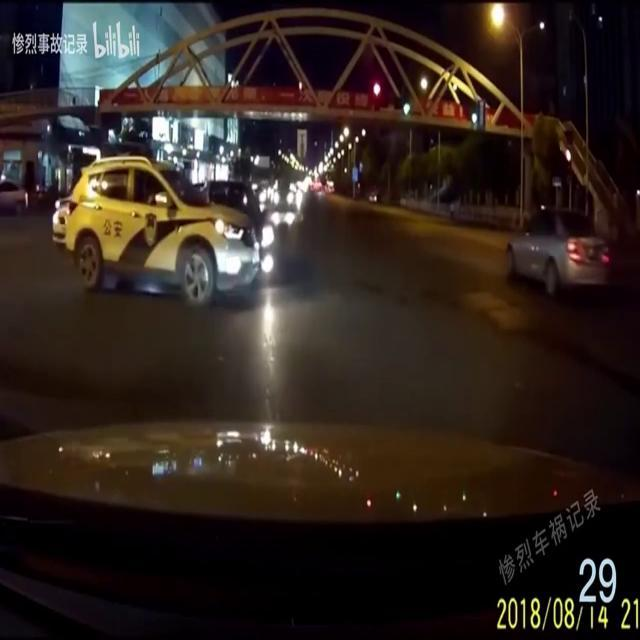multiple_accident: (52, 132, 290, 318)
normal: (492, 182, 620, 333)
